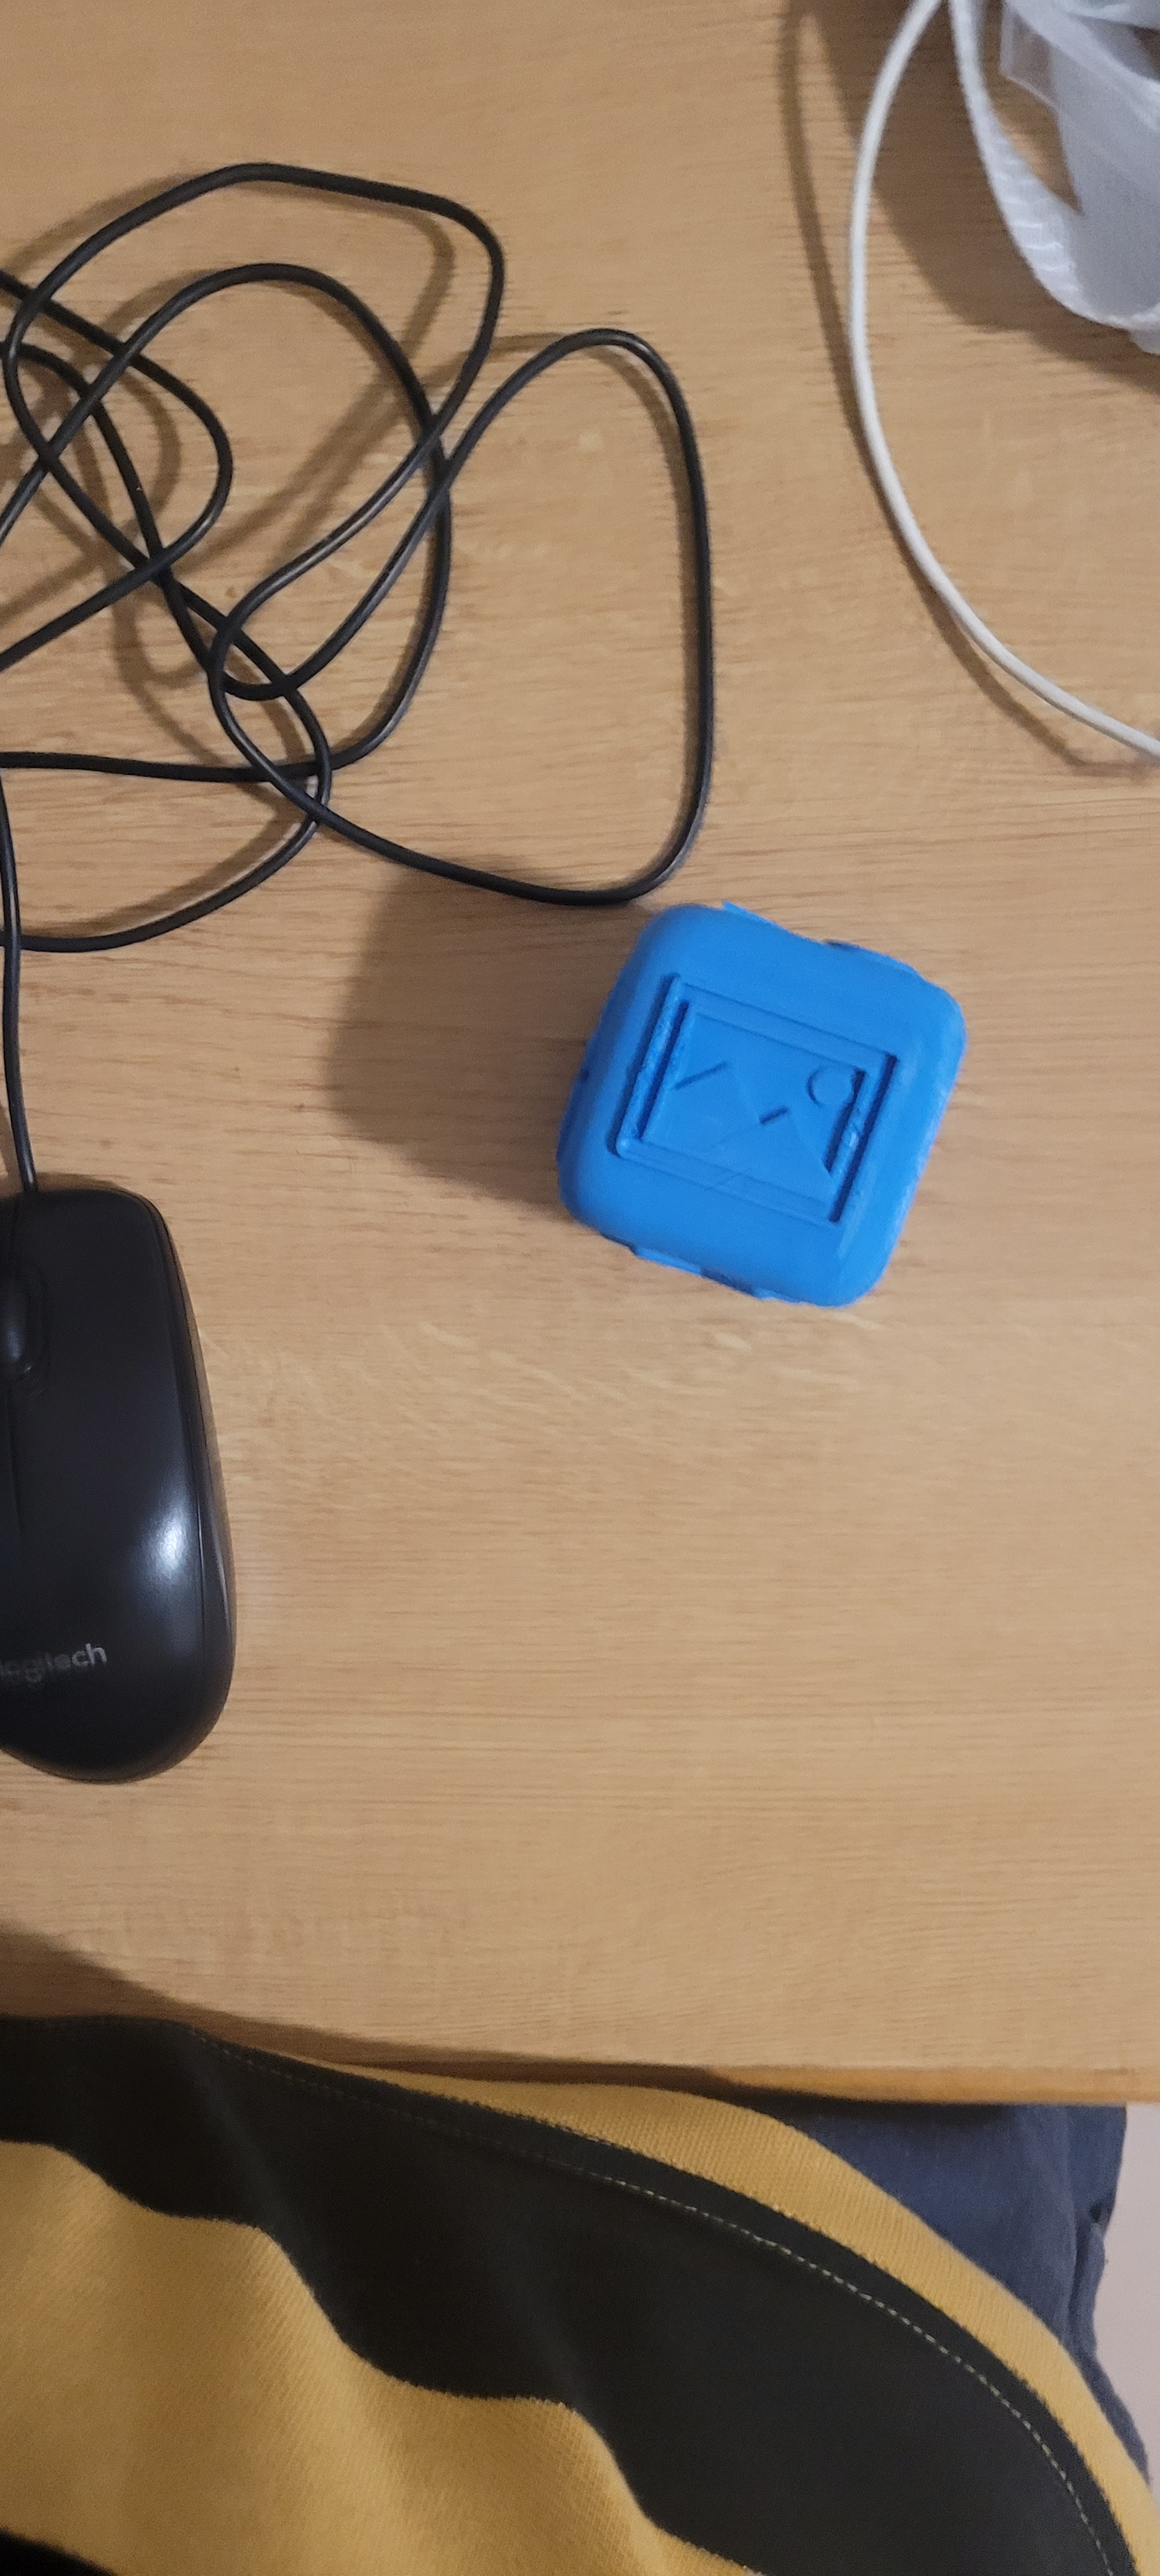Story: (582, 940, 966, 1199)
